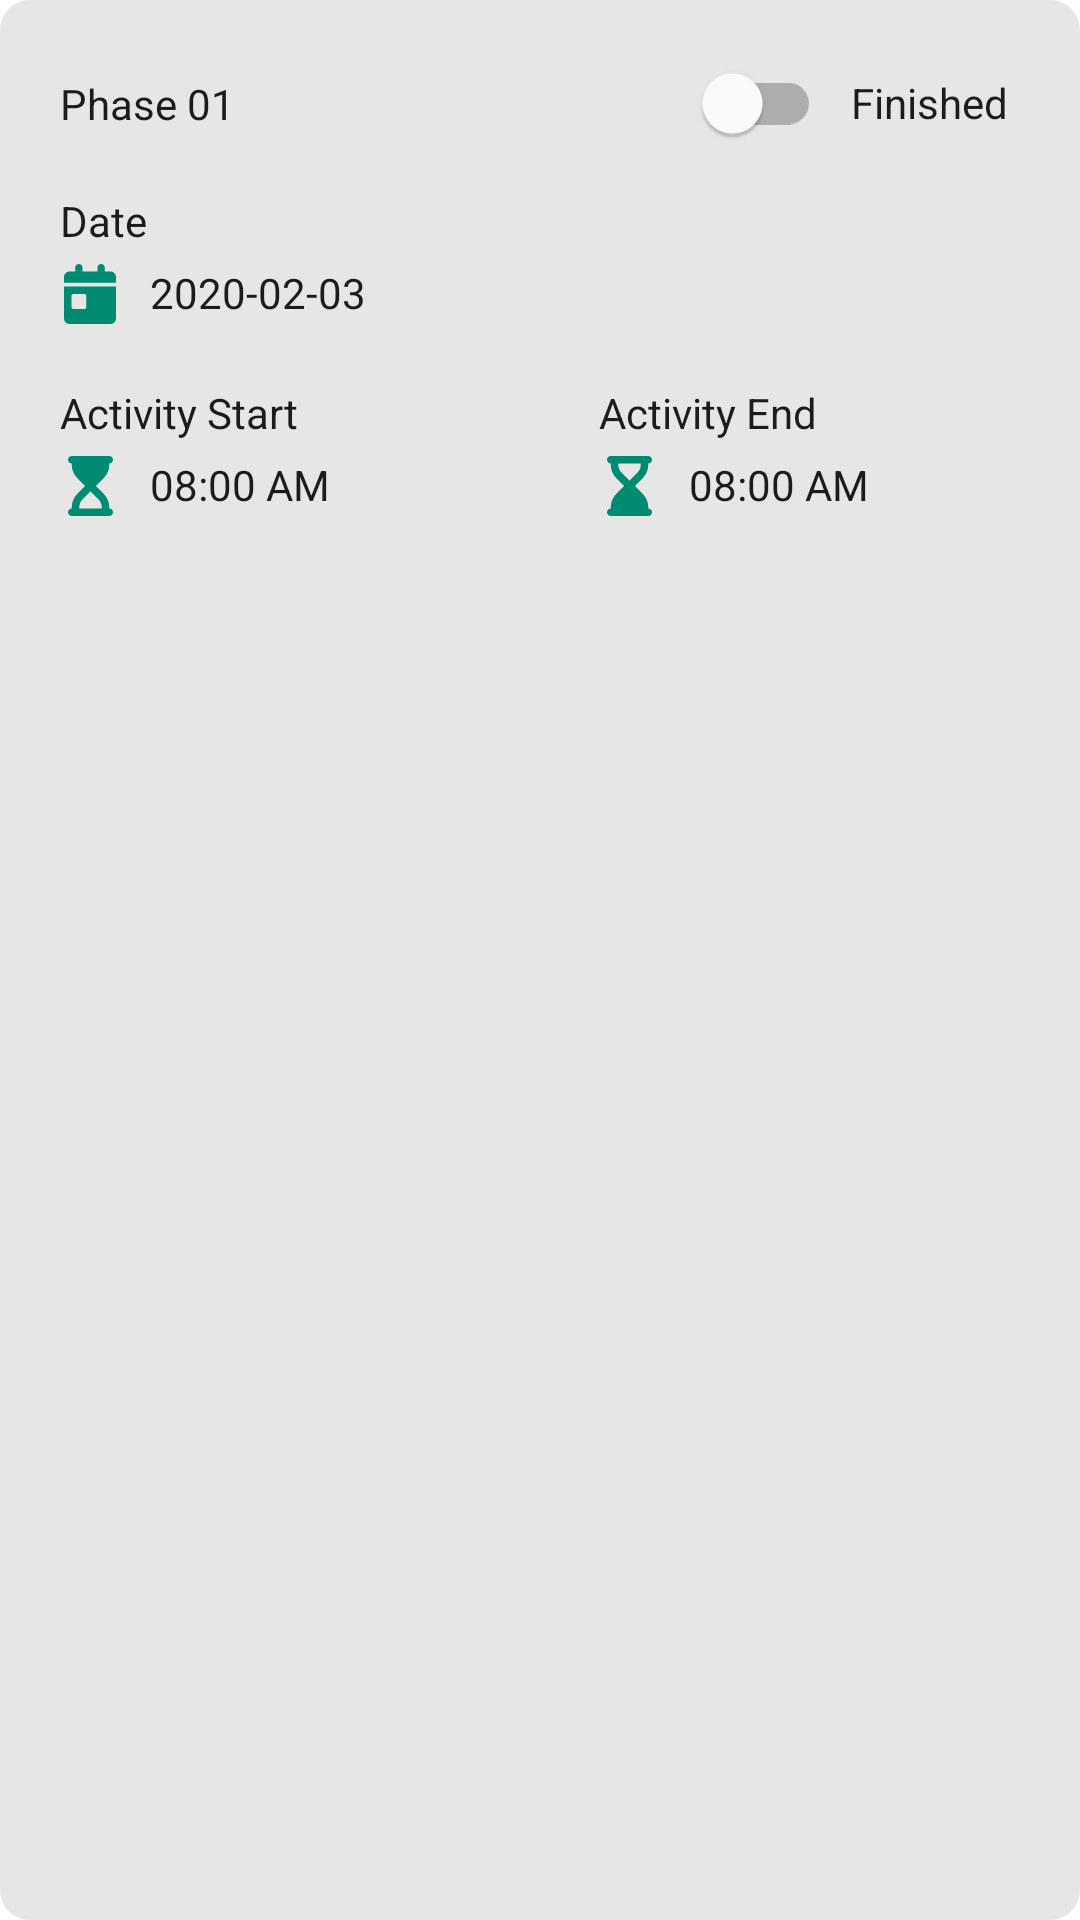

Screen size 1080*1920. Icon name, then its box in pixels as (x1, y1, x2, y2):
calendar day: (64, 264, 116, 324)
hourglass end: (607, 456, 652, 516)
hourglass start: (68, 456, 113, 516)
